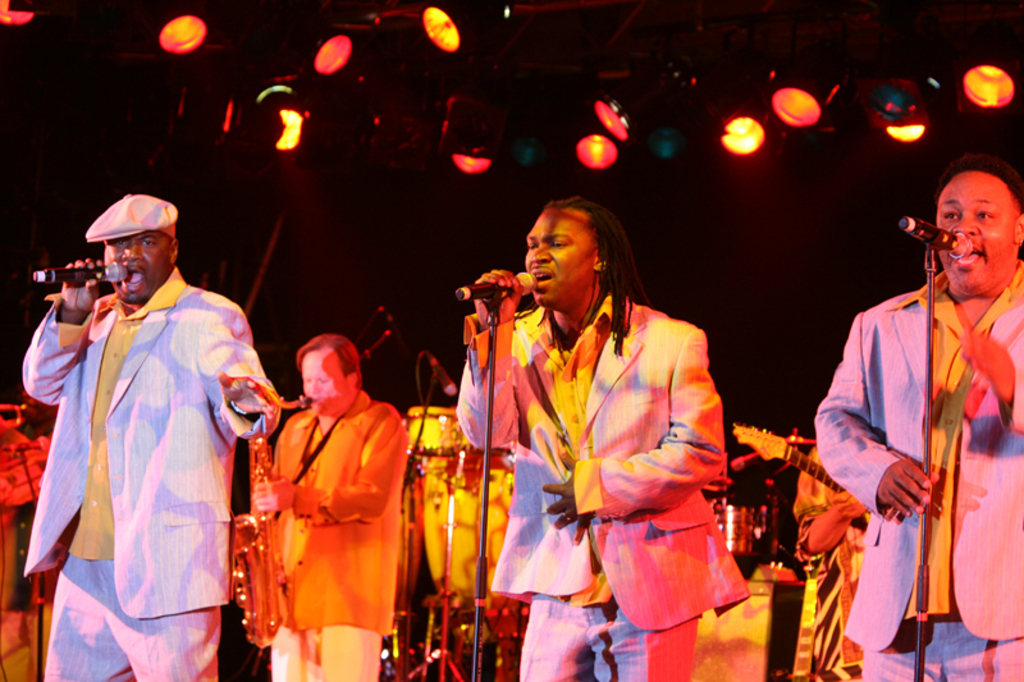Person: (21, 152, 1024, 682)
